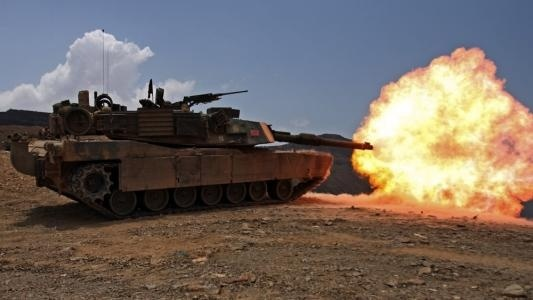fire: (347, 46, 533, 214)
